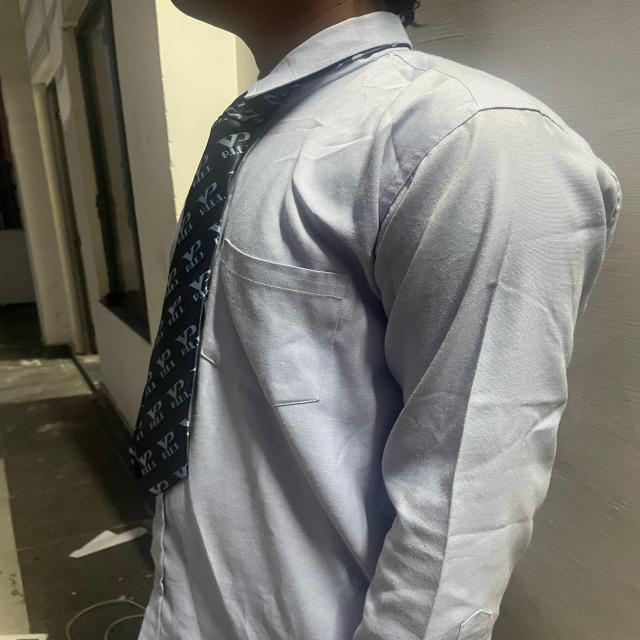Tie: (127, 42, 412, 497)
uniform: (133, 11, 622, 639)
